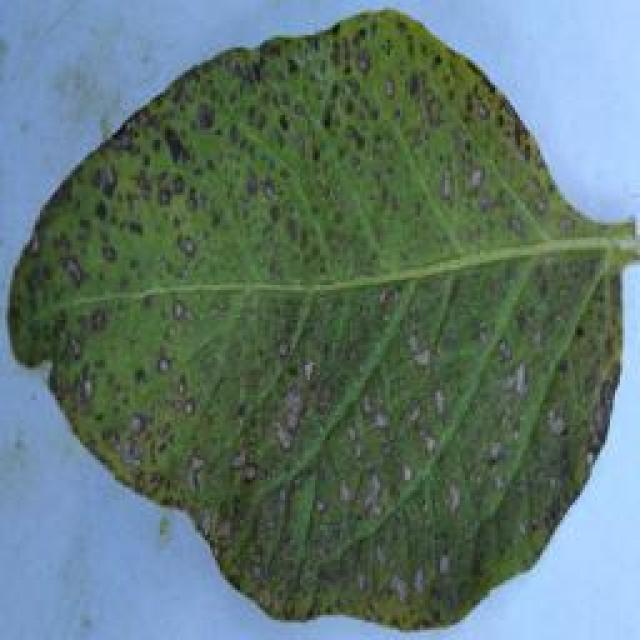Potato_Early_Blight: (5, 14, 632, 640)
